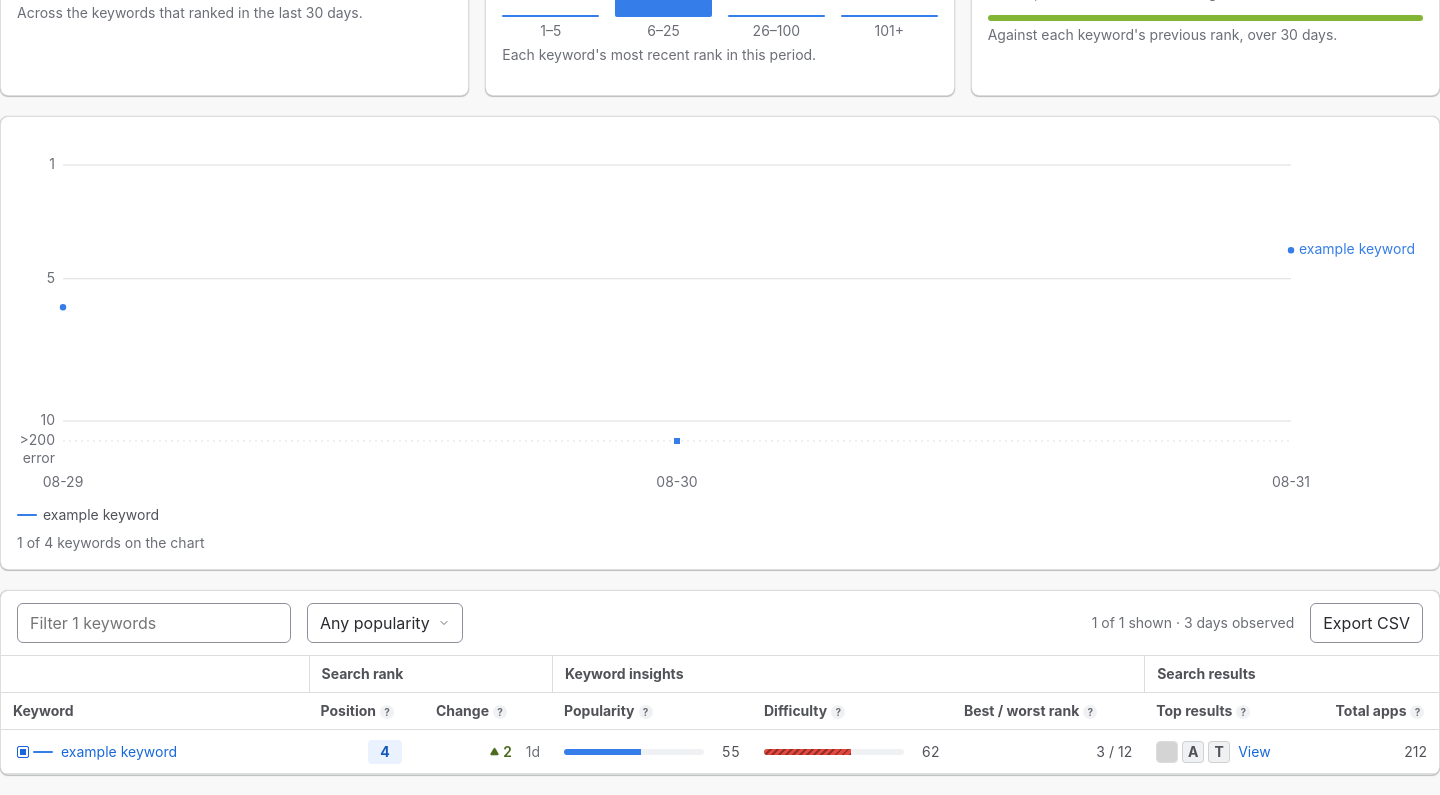
Test: Chart series selection › says the lines are hidden rather than that nothing was collected
(page scrolled)
Step 1. Click the button with aria-label "Hide example keyword from the chart" → (88, 515), box [17, 505, 159, 525]
(page scrolled)
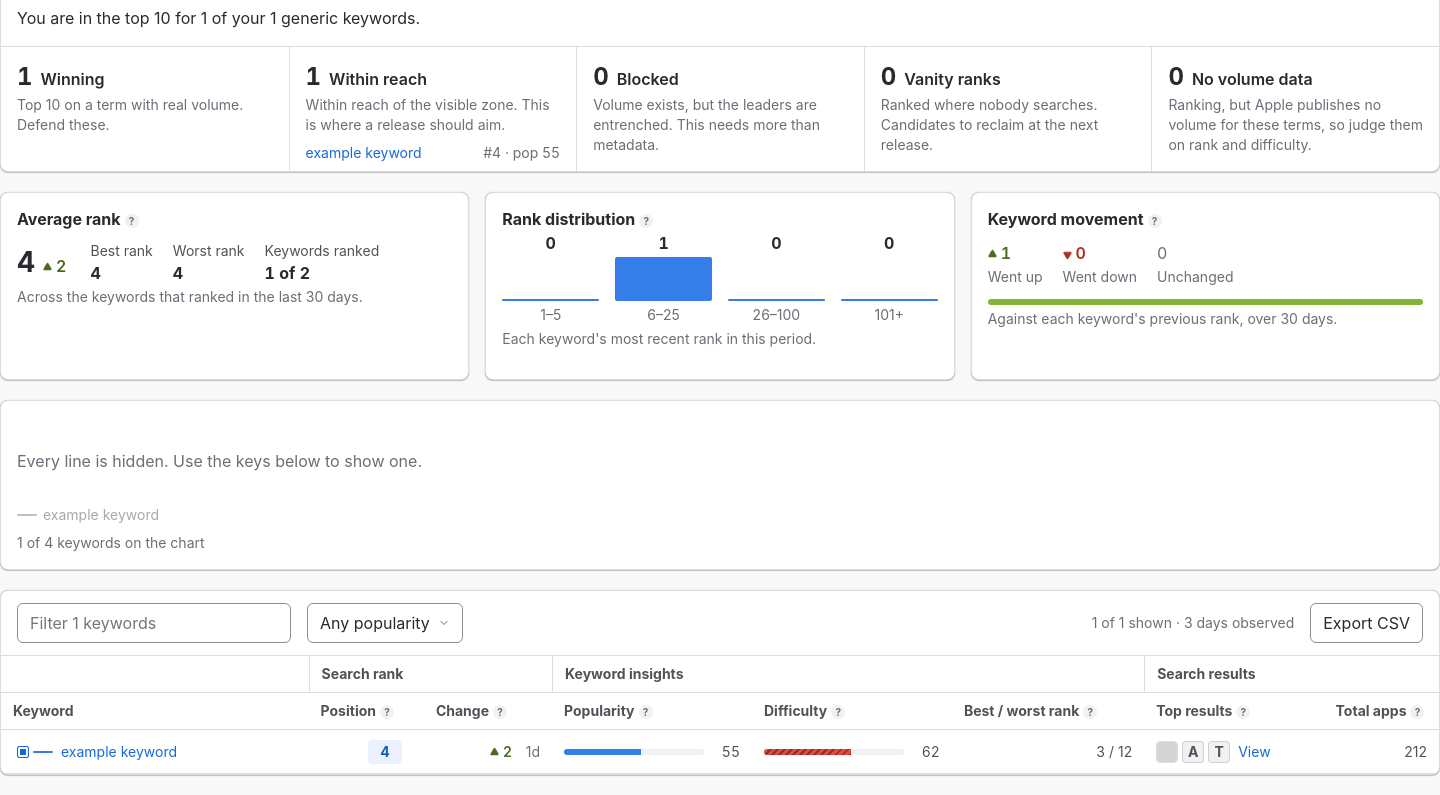
Result: the text "Every line is hidden. Use the keys below to show one." is shown at [17, 451, 422, 471]
